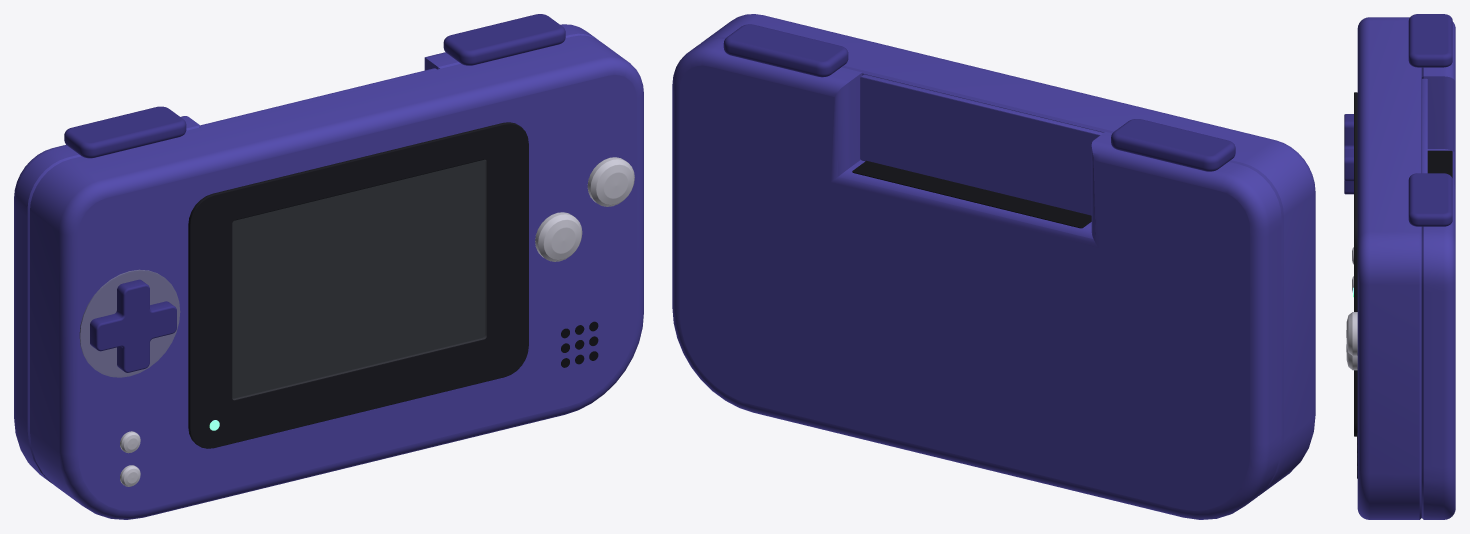
Rendered from console-gba.glb.
3 renders of one model, left to right at view 1: azimuth 30°, elevation 25°; view 2: azimuth 150°, elevation 25°; view 3: azimuth 270°, elevation 25°, orthographic. The views are drawn at different scales.
Visible parts, largest first — view 1: role:shell (×2), screen-glass, part, role:bezel, role:shoulders, role:dpad, role:trim, role:buttons, role:small; view 2: role:shell (×2), role:shoulders, part; view 3: role:shell (×2), role:shoulders, role:bezel, role:dpad, role:buttons, part.
Boxes of the visible parts, x1,y1,x2,y2 form: role:shell (×2): (14,24,643,519); screen-glass: (233,160,485,399); part: (232,159,484,398); role:bezel: (188,122,528,448); role:shoulders: (64,14,565,158); role:dpad: (90,279,176,372); role:trim: (79,269,180,377); role:buttons: (535,157,634,261); role:small: (120,431,140,486); role:shell (×2): (672,14,1315,519); role:shoulders: (723,24,1235,171); part: (852,160,1091,228); role:shell (×2): (1357,17,1455,519); role:shoulders: (1408,14,1452,226); role:bezel: (1354,92,1357,436); role:dpad: (1344,114,1353,194); role:buttons: (1346,312,1357,370); part: (1427,150,1452,177).
Bounding box in the file's own units: 144 × 85.4 × 27.85.
